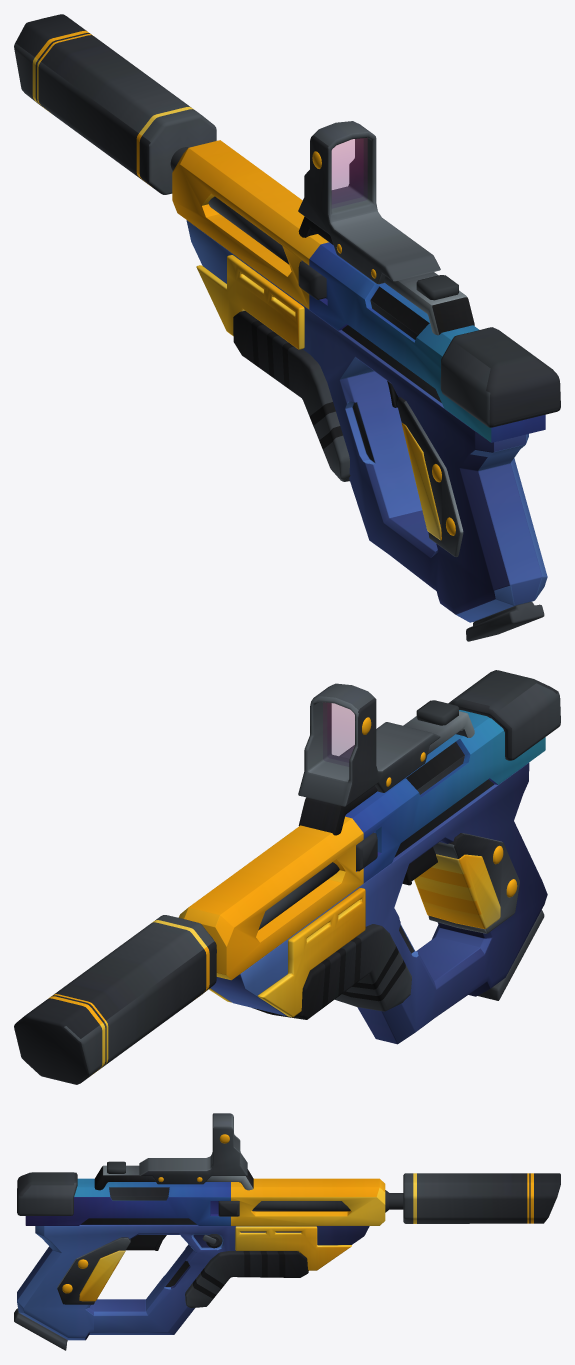
Rendered from YEY.fbx.
The picture shows the model from 3 angles, top to bottom: view 1: azimuth 30°, elevation 25°; view 2: azimuth 150°, elevation 25°; view 3: azimuth 270°, elevation 25°; orthographic projection. The views are drawn at different scales.
Parts seen in each view (by area): view 1: Cube; view 2: Cube; view 3: Cube.
Boxes of the visible parts, box(x1,y1,x2,y2) form: Cube: box(14, 14, 560, 641); Cube: box(14, 670, 560, 1084); Cube: box(14, 1113, 560, 1350).
Bounding box in the file's own units: 22.43 × 118 × 254.
